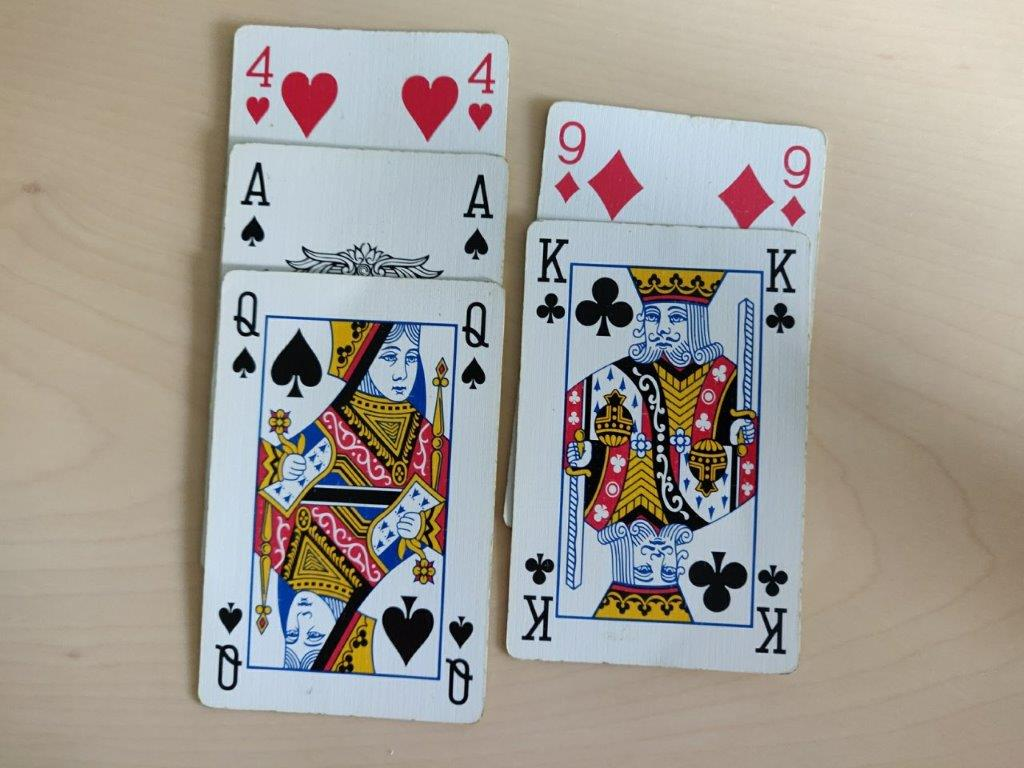4H: (464, 44, 499, 134), (244, 41, 276, 130)
9D: (776, 142, 813, 229), (553, 116, 588, 205)
AS: (234, 157, 275, 249), (456, 169, 497, 261)
KC: (531, 234, 571, 326), (764, 244, 804, 336)
QS: (227, 285, 265, 381), (457, 296, 495, 392)
